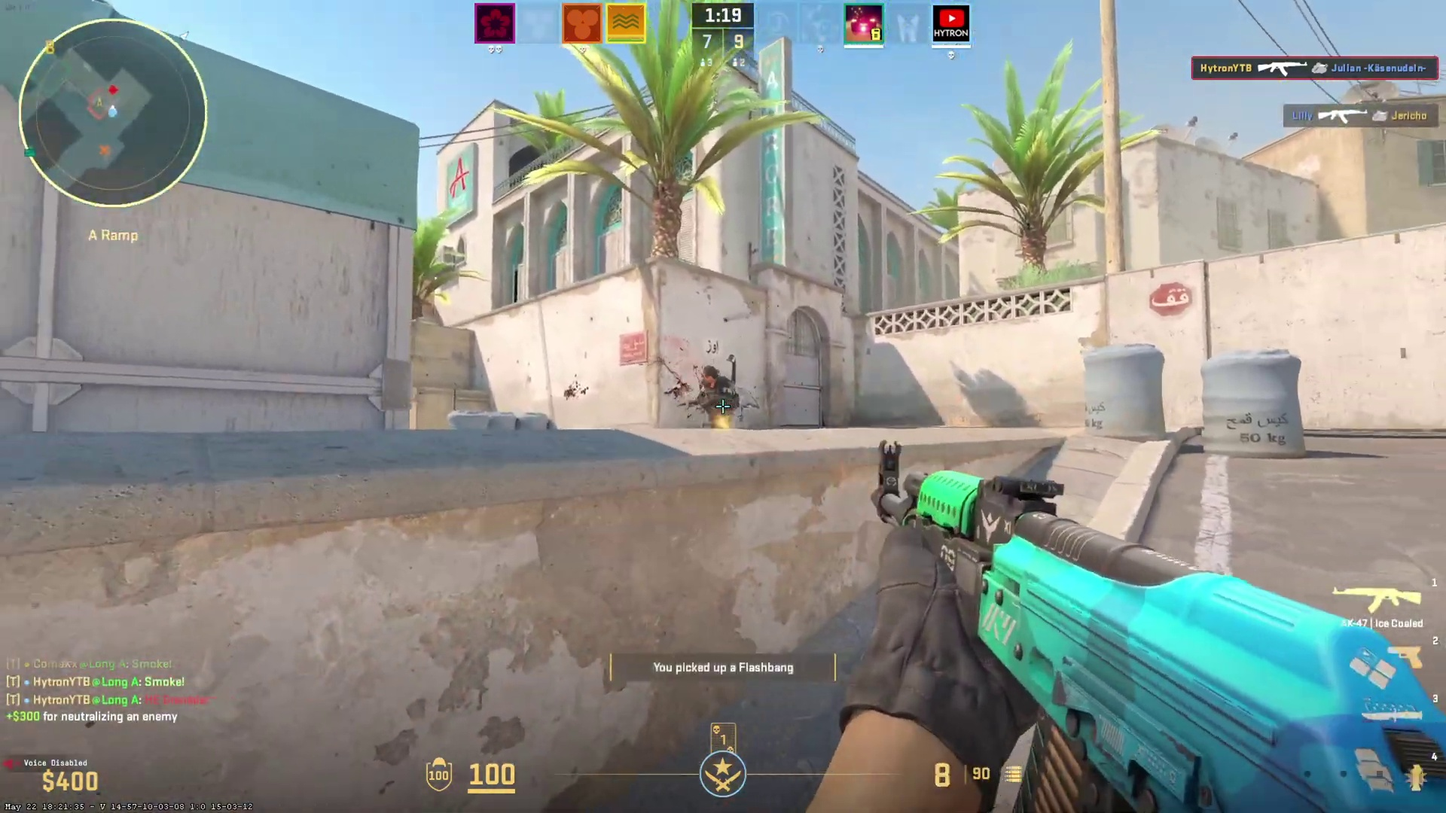CT: (698, 366, 736, 428)
